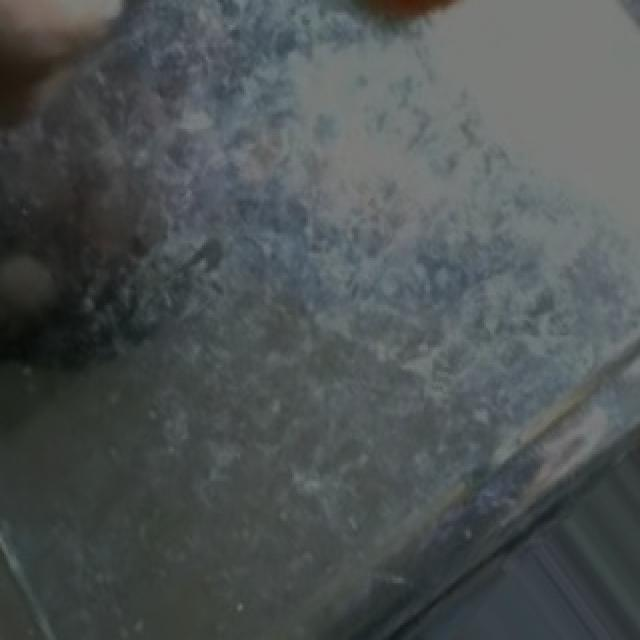Fruit: (296, 0, 532, 47)
